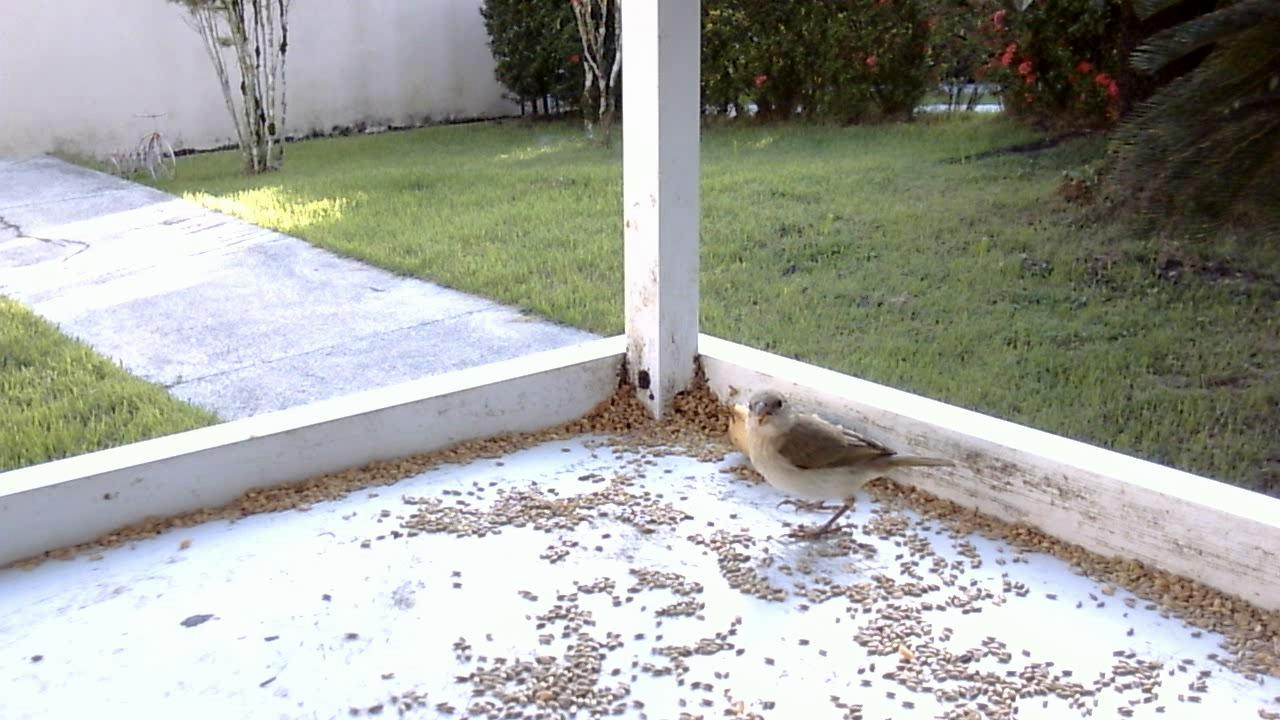canario_do_amazonas: (733, 381, 960, 554)
